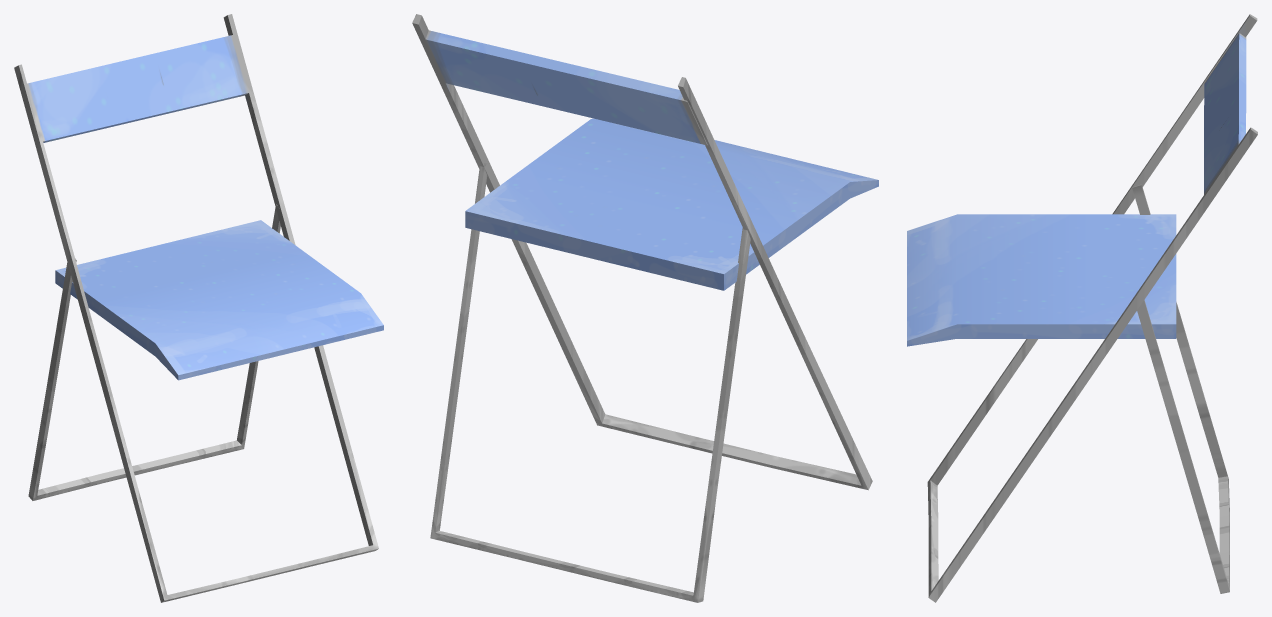
File: foldingchair.FBX
3 renders of one model, left to right at view 1: azimuth 30°, elevation 25°; view 2: azimuth 150°, elevation 25°; view 3: azimuth 270°, elevation 25°, orthographic. The views are drawn at different scales.
Parts seen in each view (by area): view 1: foldingchair001, foldingchair003, foldingchair002; view 2: foldingchair001, foldingchair003, foldingchair002; view 3: foldingchair001, foldingchair003, foldingchair002.
Part boxes in pixels (x1,y1,x2,y2): foldingchair001: (55,220,383,380); foldingchair003: (14,14,378,602); foldingchair002: (28,204,280,500); foldingchair001: (465,118,878,290); foldingchair003: (412,14,872,490); foldingchair002: (430,162,750,602); foldingchair001: (907,214,1176,346); foldingchair003: (927,14,1257,602); foldingchair002: (1132,185,1229,593).
Bounding box in the file's own units: 0.8267 × 1.59 × 1.07.
